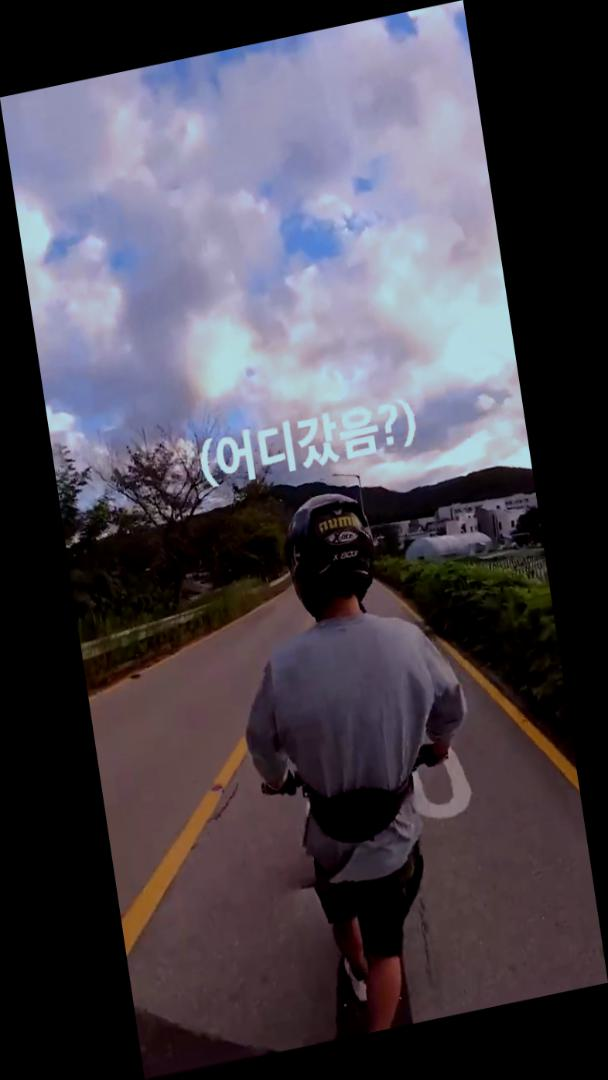helmet: (211, 468, 513, 1050)
